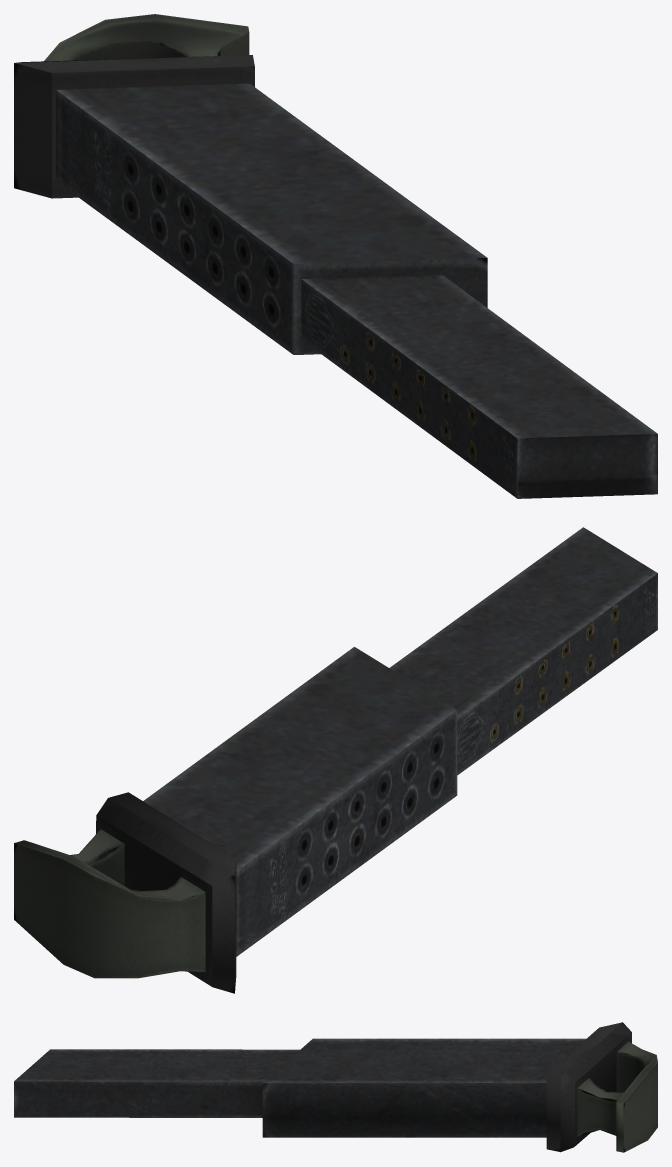
File: t6_attach_fastmag_vector_world_LOD1.obj
3 views of the same model, one above another, from view 1: azimuth 30°, elevation 25°; view 2: azimuth 150°, elevation 25°; view 3: azimuth 270°, elevation 25° (orthographic). The views are drawn at different scales.
Parts seen in each view (by area): view 1: mtl_t6_wpn_smg_vector_camo4, mtl_t6_attach_fastmag; view 2: mtl_t6_wpn_smg_vector_camo4, mtl_t6_attach_fastmag; view 3: mtl_t6_wpn_smg_vector_camo4, mtl_t6_attach_fastmag.
Part boxes in pixels (<box>): mtl_t6_wpn_smg_vector_camo4: <box>56,83,657,498</box>; mtl_t6_attach_fastmag: <box>14,14,254,198</box>; mtl_t6_wpn_smg_vector_camo4: <box>143,527,657,956</box>; mtl_t6_attach_fastmag: <box>14,792,236,993</box>; mtl_t6_wpn_smg_vector_camo4: <box>14,1038,585,1137</box>; mtl_t6_attach_fastmag: <box>546,1022,657,1152</box>.
Size of the model in its own units: 5.89 by 3.01 by 23.31.
